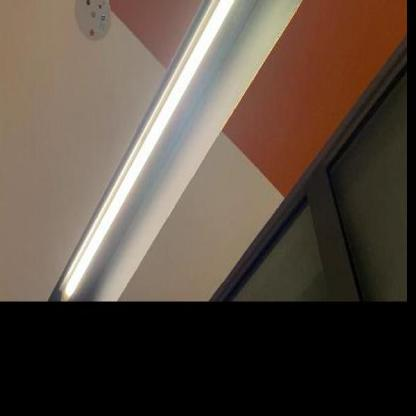light_on: (53, 0, 290, 302)
